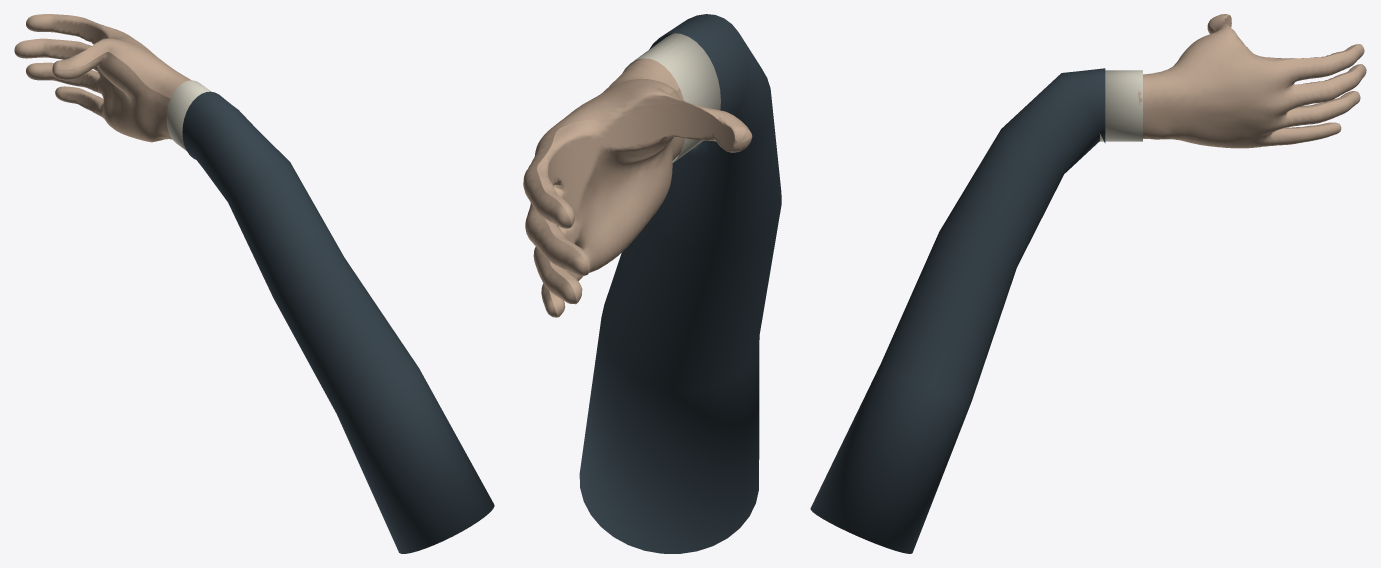
File: hand-cup.glb
The picture shows the model from 3 angles, left to right: view 1: azimuth 30°, elevation 25°; view 2: azimuth 150°, elevation 25°; view 3: azimuth 270°, elevation 25°; orthographic projection. The views are drawn at different scales.
Visible parts, largest first — view 1: held-drink-sleeve, webxr-cup-skin, shirt-cuff; view 2: held-drink-sleeve, webxr-cup-skin, shirt-cuff; view 3: held-drink-sleeve, webxr-cup-skin, shirt-cuff.
Part boxes in pixels (box(x1,y1,x2,y2)): held-drink-sleeve: box(182, 91, 494, 553); webxr-cup-skin: box(14, 14, 191, 142); shirt-cuff: box(166, 80, 211, 150); held-drink-sleeve: box(579, 14, 781, 553); webxr-cup-skin: box(523, 58, 752, 317); shirt-cuff: box(622, 33, 720, 162); held-drink-sleeve: box(810, 68, 1105, 553); webxr-cup-skin: box(1138, 14, 1366, 148); shirt-cuff: box(1099, 70, 1142, 141).
Size of the model in its own units: 0.2462 by 0.3767 by 0.4289.
